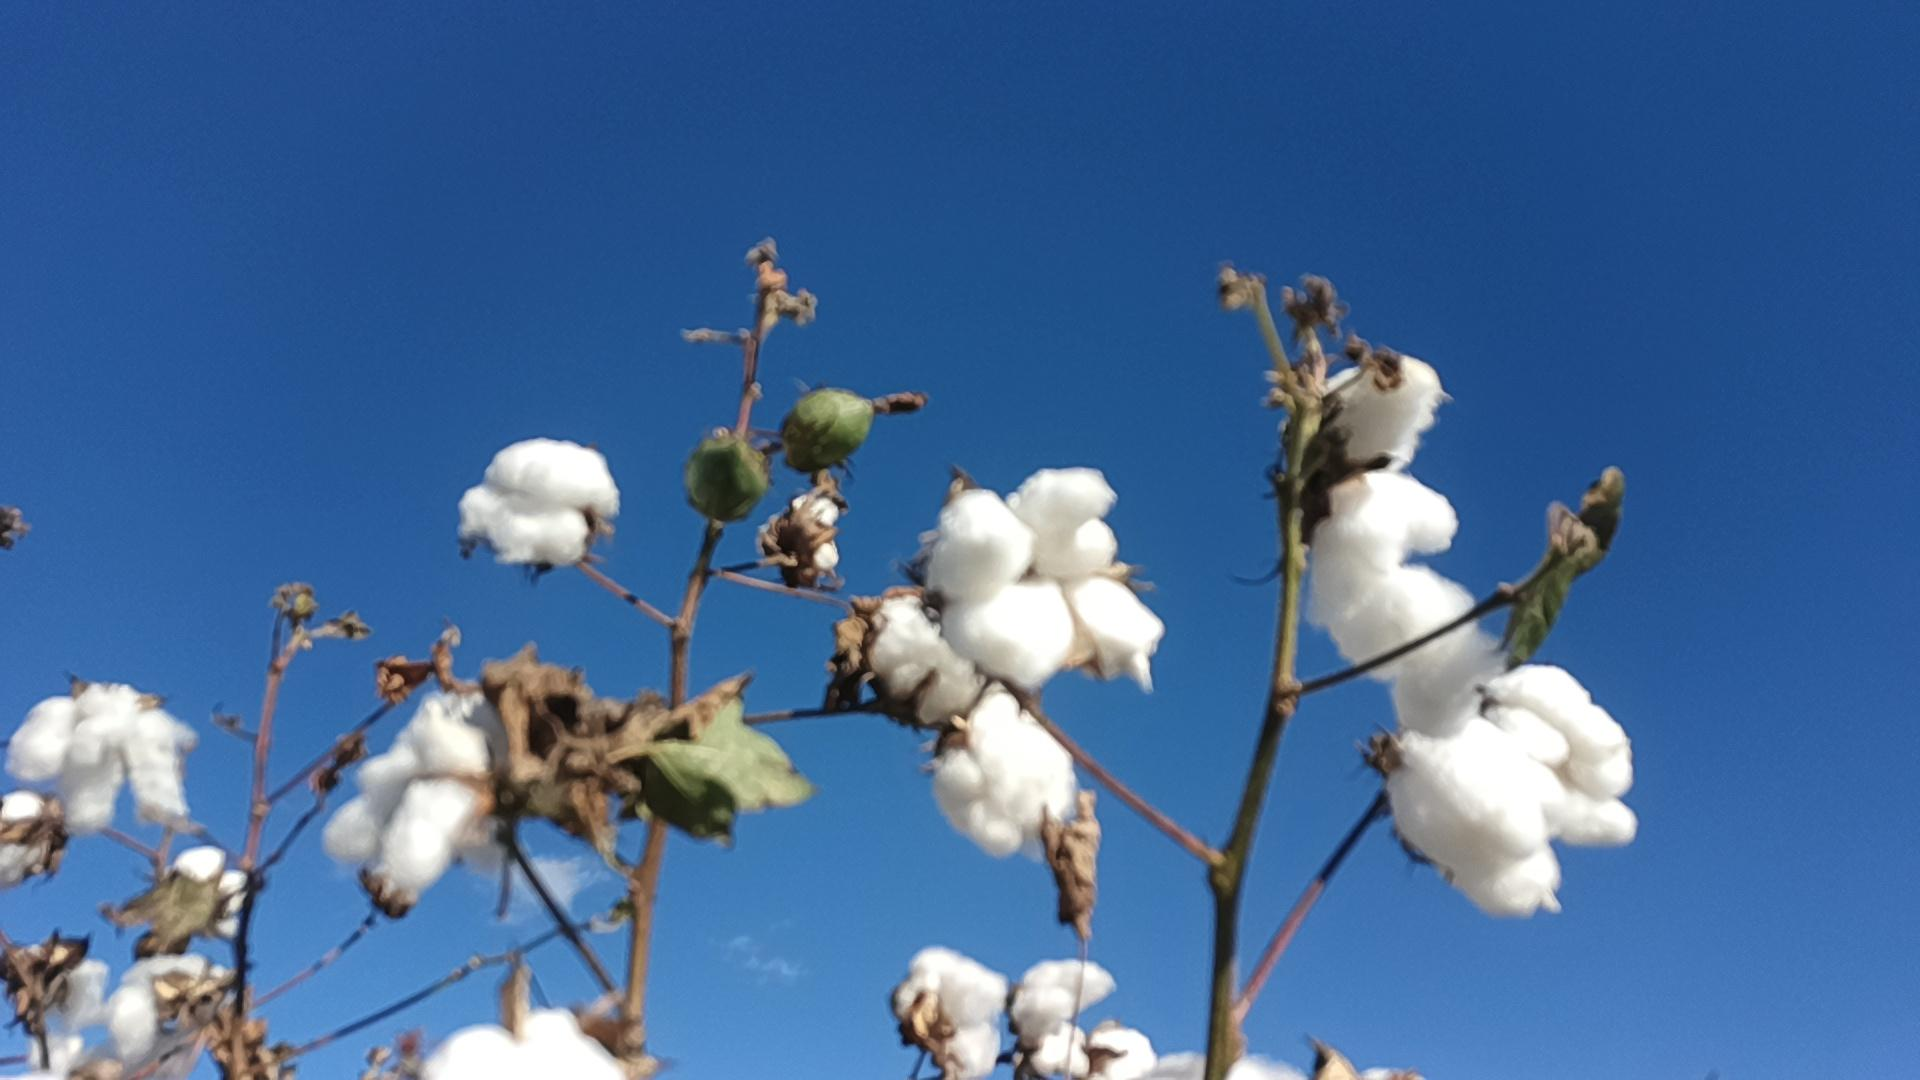cotton_ready: (1390, 667, 1643, 926), (919, 468, 1168, 687), (1292, 360, 1461, 615), (328, 711, 502, 903), (0, 680, 195, 837), (1320, 583, 1506, 728), (938, 696, 1085, 861), (460, 433, 620, 568), (861, 588, 998, 717), (410, 1007, 634, 1080), (895, 945, 1007, 1080), (1007, 956, 1126, 1035), (760, 493, 843, 578)
